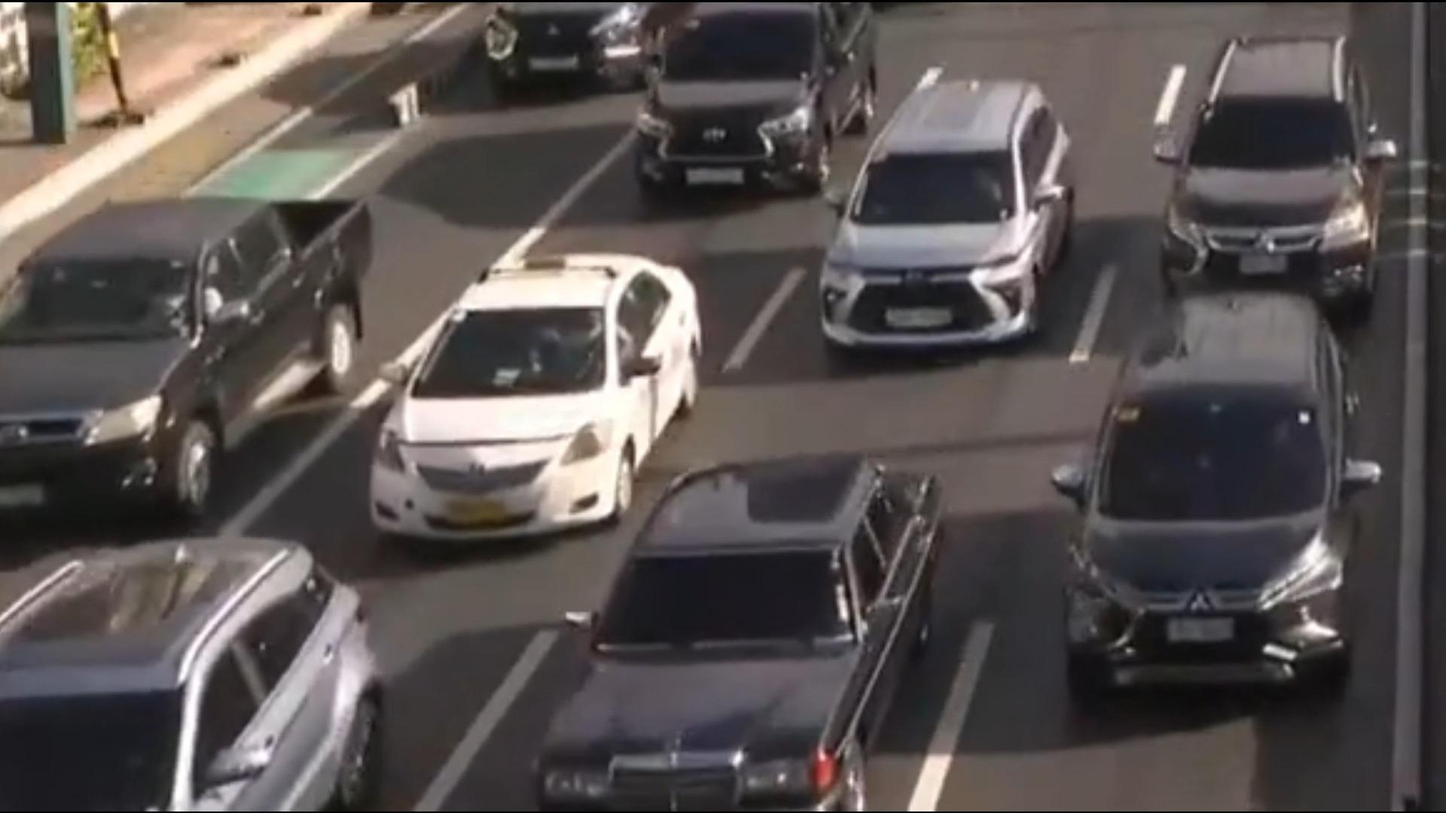Pickup: (0, 164, 396, 538)
SUV: (1043, 290, 1371, 759), (0, 525, 415, 813), (793, 59, 1110, 390), (1140, 14, 1433, 330), (608, 0, 893, 202)
Sedan: (552, 439, 983, 801), (362, 217, 721, 574)
